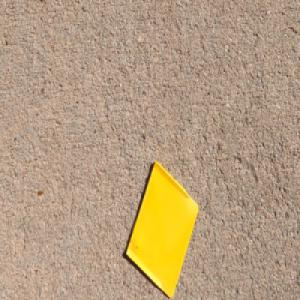PlasticPart: (124, 159, 199, 299)
